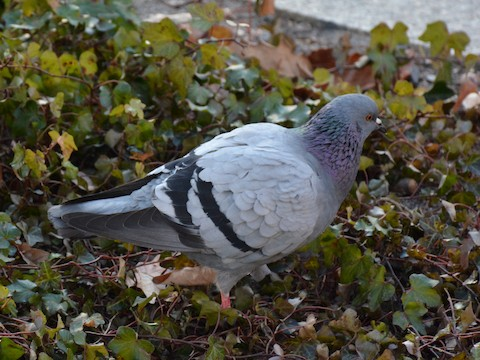pigeon: (43, 86, 397, 319)
